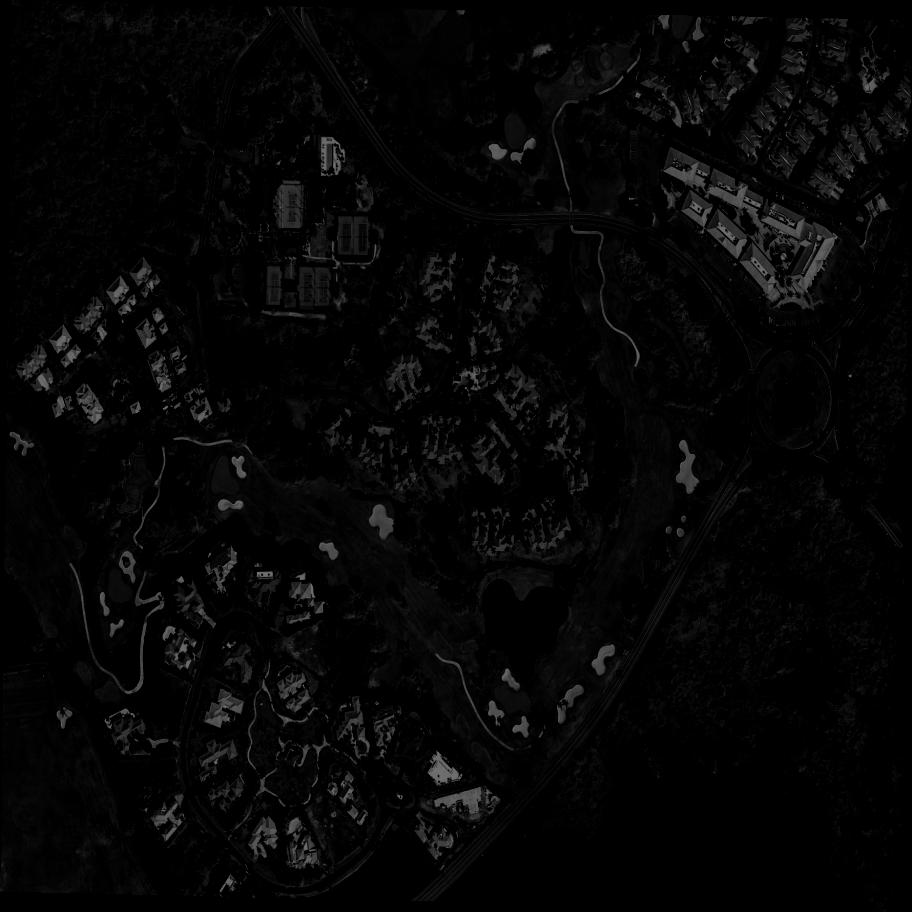small-vehicle: (864, 297, 872, 305), (842, 289, 849, 297), (320, 855, 327, 863), (324, 867, 331, 875), (826, 217, 833, 225), (735, 285, 742, 293), (732, 283, 739, 291), (716, 247, 723, 254), (752, 304, 758, 312), (245, 863, 251, 870), (837, 274, 844, 280), (216, 620, 223, 626), (617, 671, 623, 678), (728, 279, 735, 285), (212, 801, 218, 807), (812, 281, 818, 287), (759, 294, 765, 300), (744, 297, 750, 303), (324, 818, 329, 825), (815, 336, 822, 341), (224, 846, 230, 851), (422, 193, 428, 198), (816, 273, 822, 278), (830, 285, 835, 291), (701, 235, 707, 240), (713, 244, 718, 250), (712, 288, 717, 294), (178, 320, 183, 325), (829, 290, 834, 295), (831, 306, 836, 311), (894, 210, 899, 215), (322, 824, 327, 829), (734, 266, 739, 271), (699, 249, 703, 255), (823, 260, 827, 266), (511, 405, 515, 411), (744, 274, 748, 280), (796, 320, 799, 327), (285, 392, 290, 396), (630, 187, 635, 191), (836, 262, 840, 267), (3, 677, 7, 682), (220, 194, 224, 198), (725, 165, 729, 169), (753, 177, 757, 181), (801, 202, 804, 207), (782, 195, 785, 200), (747, 298, 750, 303), (762, 297, 765, 302), (697, 229, 699, 236), (192, 372, 194, 378), (246, 284, 250, 287), (815, 276, 818, 280), (323, 863, 326, 867), (631, 190, 635, 193), (631, 193, 635, 196), (640, 126, 643, 130), (835, 241, 839, 244), (708, 238, 710, 244), (807, 26, 811, 29), (768, 187, 770, 193), (676, 128, 678, 133), (756, 305, 758, 310), (301, 393, 304, 396), (234, 282, 237, 285), (782, 447, 785, 450), (222, 191, 226, 193), (223, 108, 225, 112), (812, 208, 814, 212), (729, 259, 731, 263), (782, 319, 784, 323), (227, 262, 232, 263), (250, 162, 251, 167), (248, 161, 249, 166), (250, 146, 251, 151), (226, 275, 230, 276), (220, 255, 222, 257), (695, 226, 696, 230), (731, 262, 732, 266), (835, 303, 836, 306), (769, 320, 770, 323), (196, 365, 196, 369), (241, 146, 241, 153), (779, 196, 779, 197), (777, 320, 777, 327), (773, 190, 773, 195)
